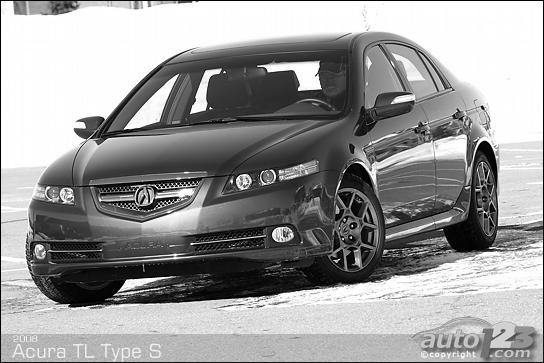car: (25, 31, 505, 306)
